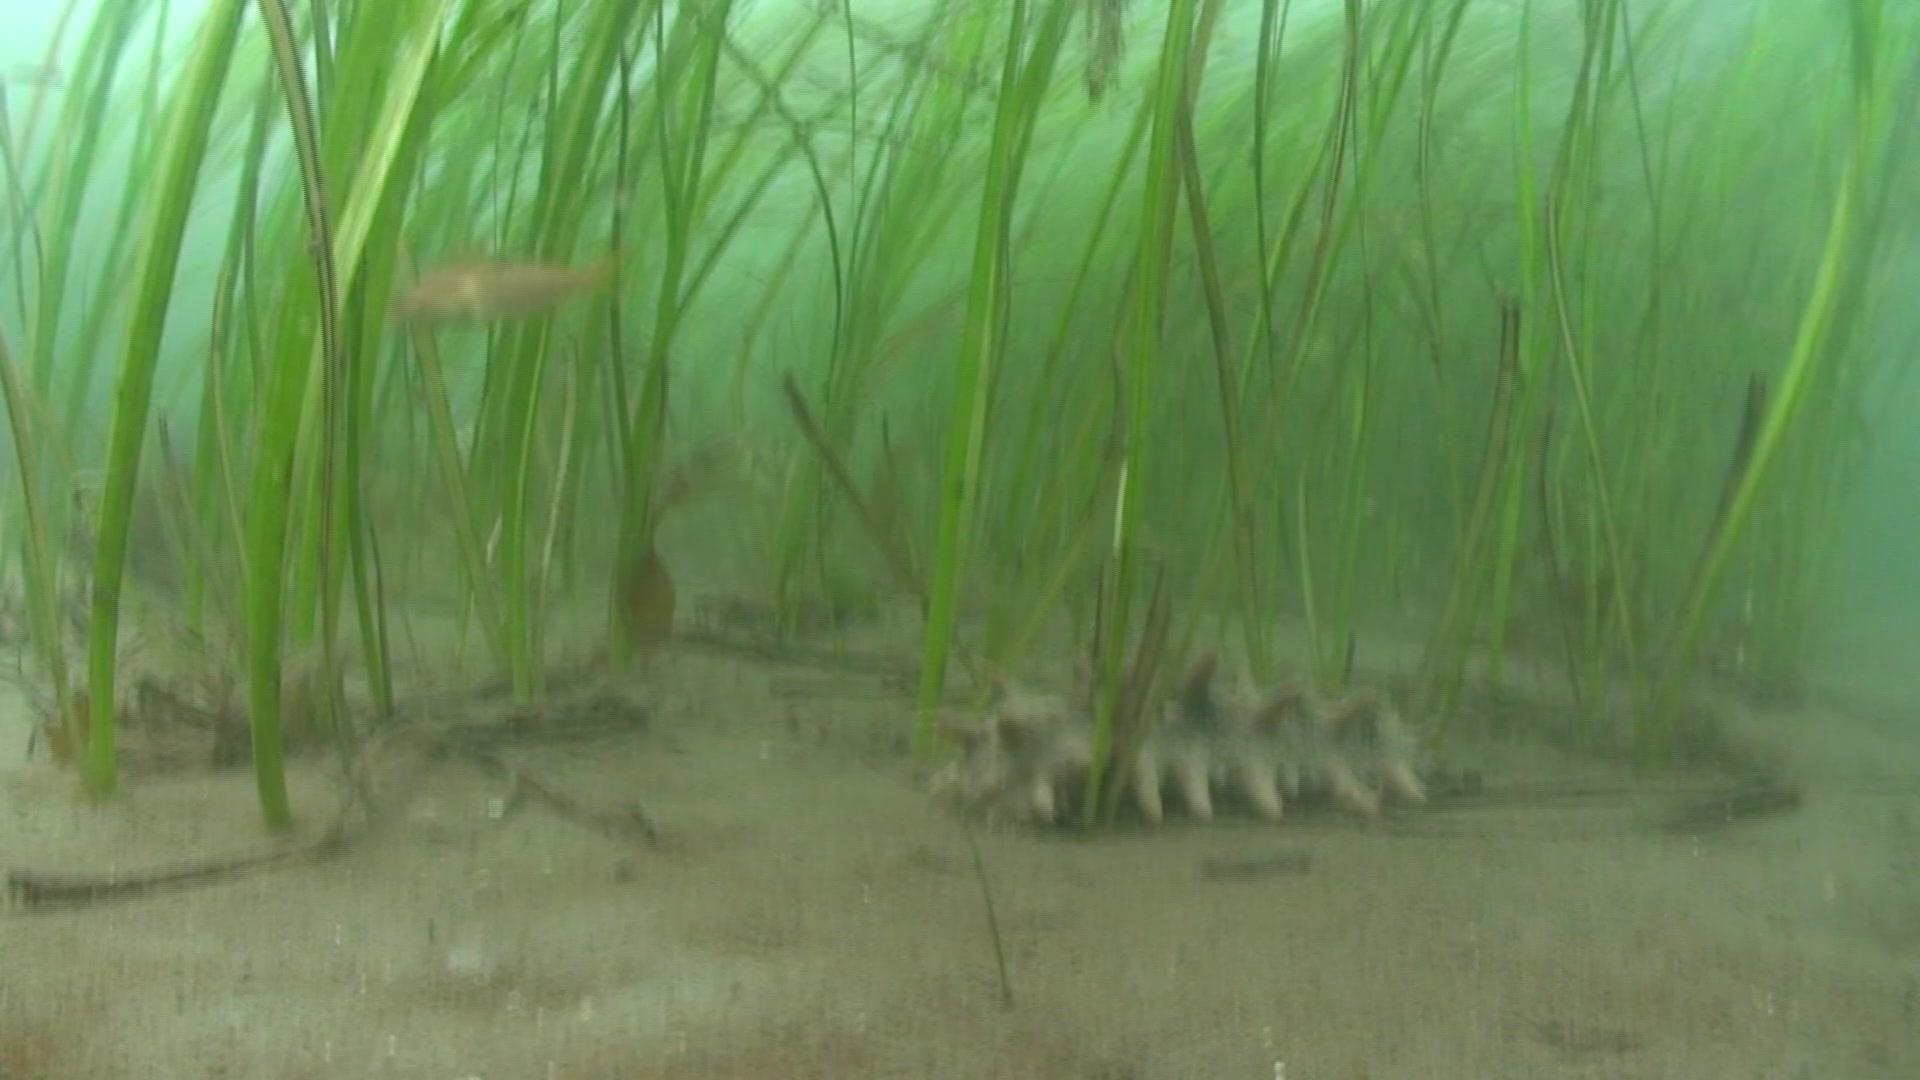holothurian: (920, 641, 1440, 837)
